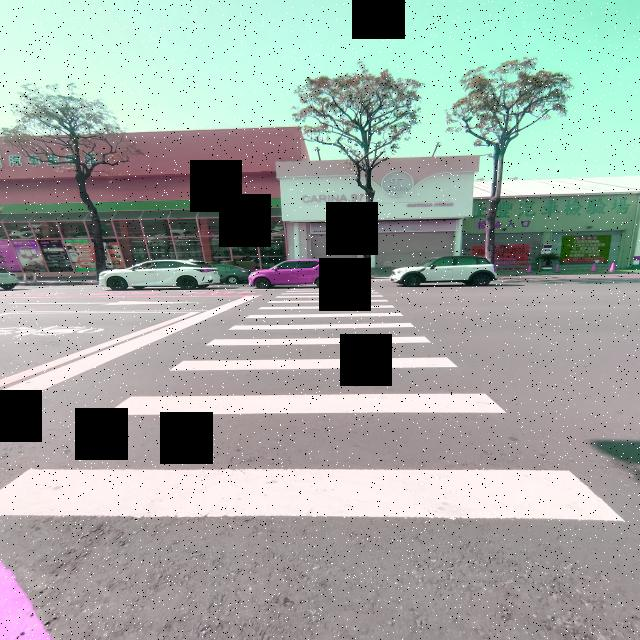zebra crossing: (0, 284, 623, 521)
